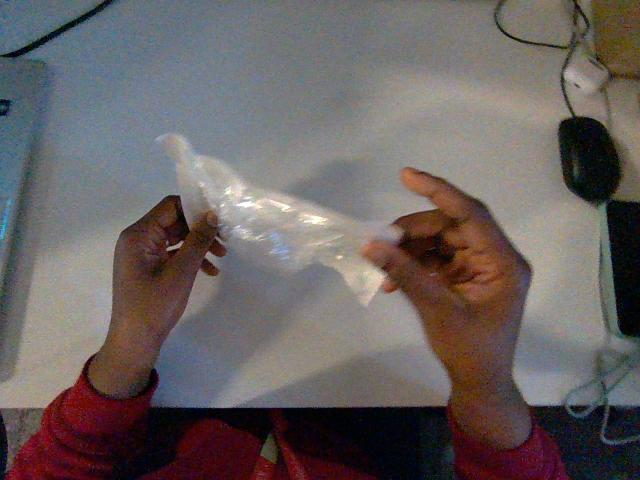gallipot: (158, 134, 401, 305)
